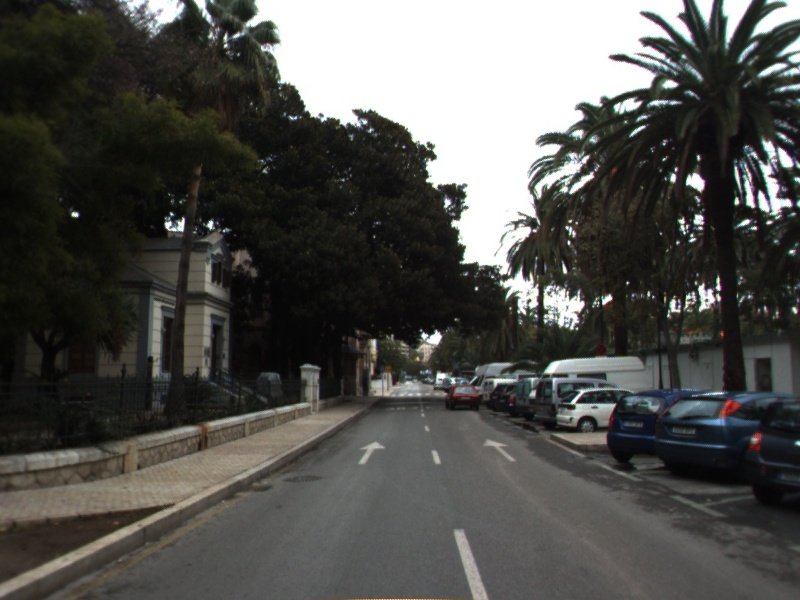STRAIGHT: (481, 437, 518, 463), (356, 439, 387, 466)
